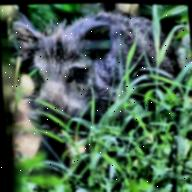boar: (15, 11, 188, 164)
